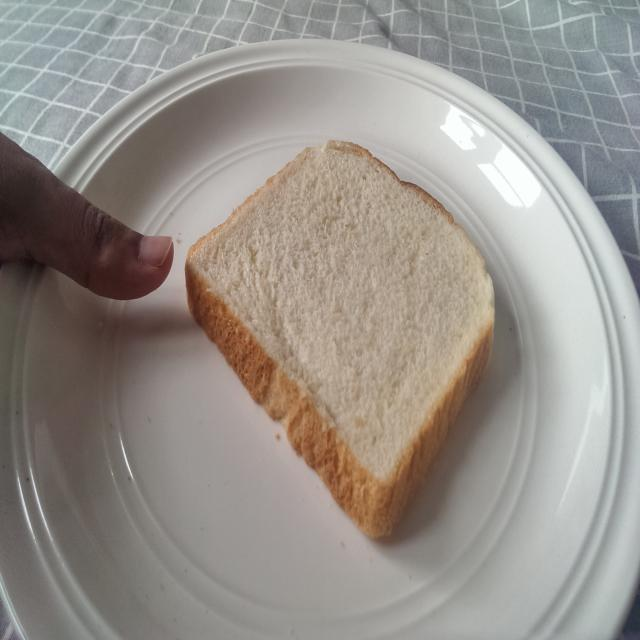bread: (180, 121, 512, 544)
